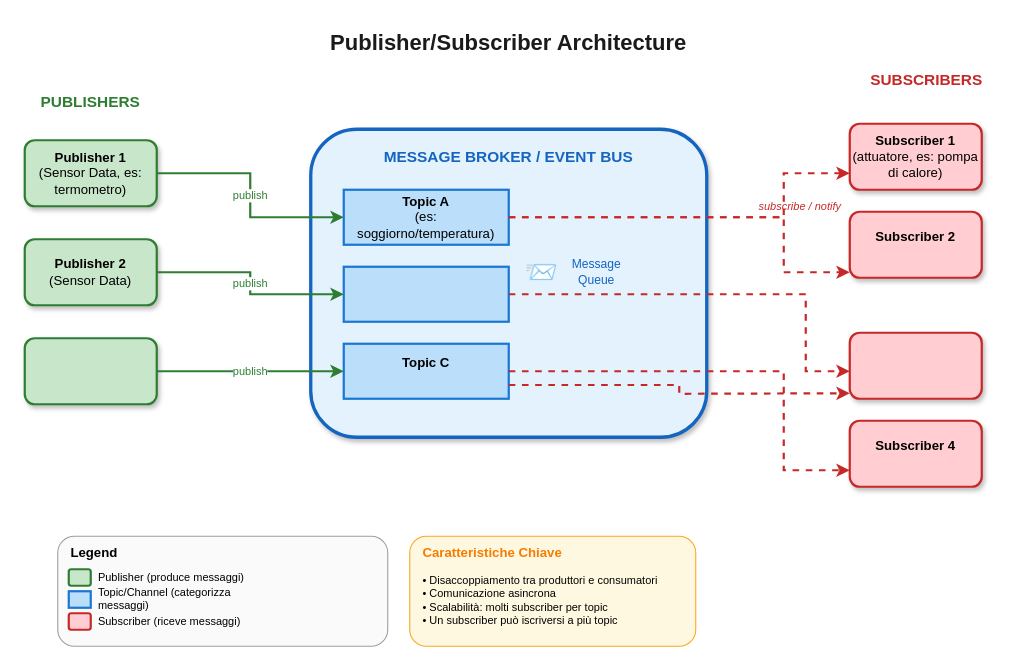
Image size: 1011x666. Some labels were removed from this diagram. Each missing label, with the centre of its shape:
Publisher 3 (Sensor Data): (91,372)
Subscriber 3: (916,367)
Topic B: (425,293)
